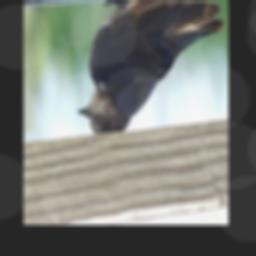Swallow: (77, 0, 224, 136)
